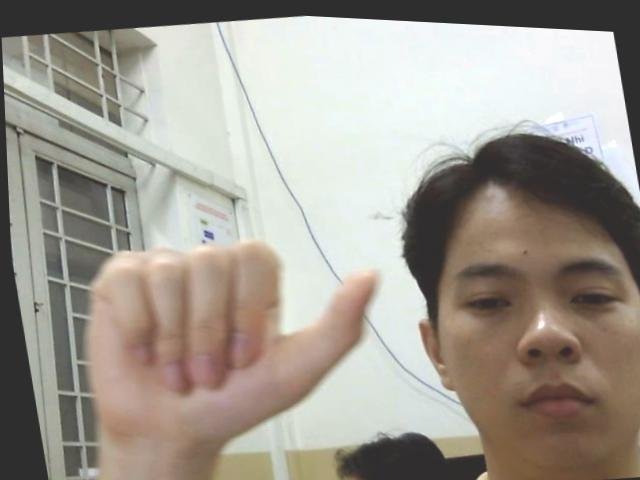A: (67, 216, 400, 451)
